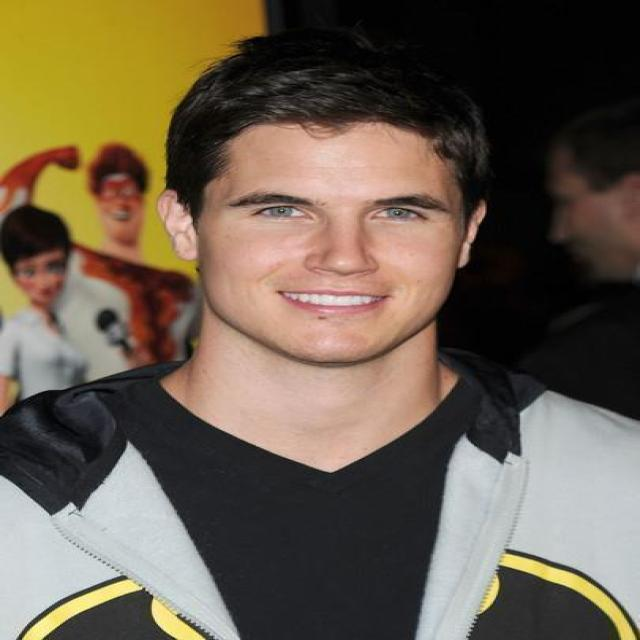0_rostro_limpio: (187, 98, 471, 373)
